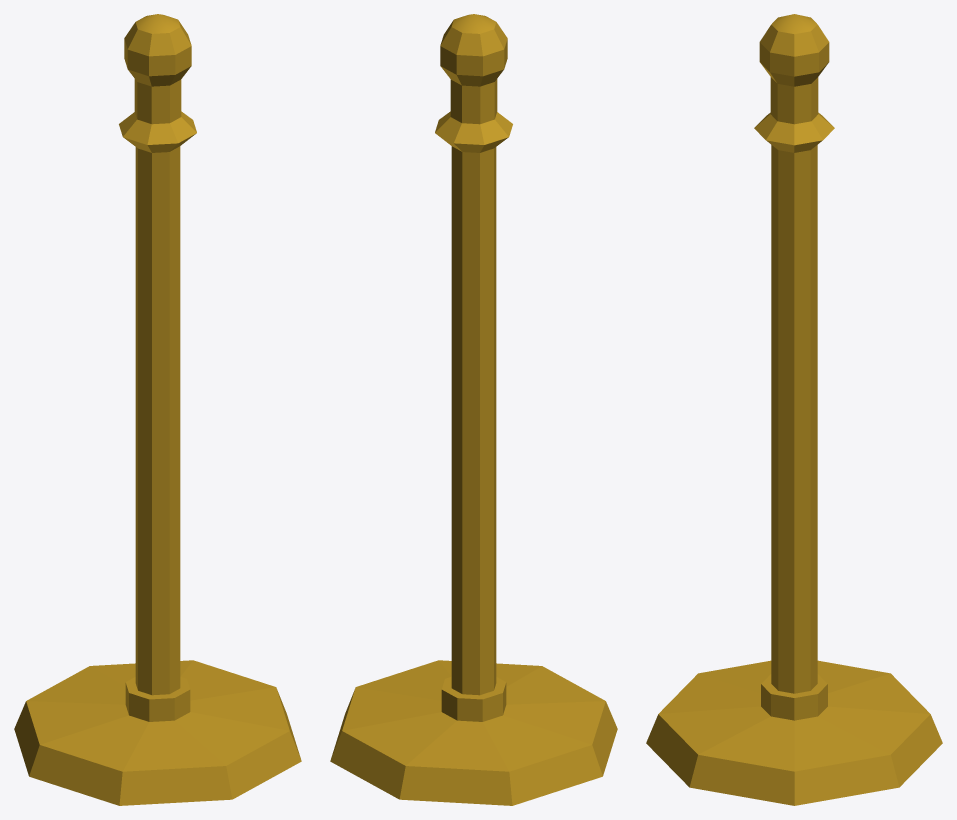
Rendered from RopeBarrierPole_02.fbx.
3 renders of one model, left to right at view 1: azimuth 30°, elevation 25°; view 2: azimuth 150°, elevation 25°; view 3: azimuth 270°, elevation 25°, orthographic.
Parts seen in each view (by area): view 1: SM_Prop_RopeBarrier_Pole_01; view 2: SM_Prop_RopeBarrier_Pole_01; view 3: SM_Prop_RopeBarrier_Pole_01.
Boxes of the visible parts, x1,y1,x2,y2 form: SM_Prop_RopeBarrier_Pole_01: (14,14,301,805); SM_Prop_RopeBarrier_Pole_01: (330,14,617,805); SM_Prop_RopeBarrier_Pole_01: (646,14,942,805).
Bounding box in the file's own units: 0.3846 × 1.04 × 0.3846.
